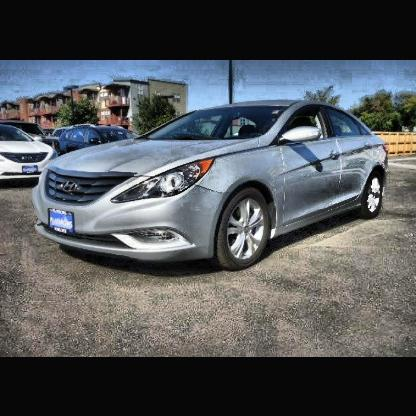Hyundai Sonata Sedan 2012: (35, 102, 388, 271)
